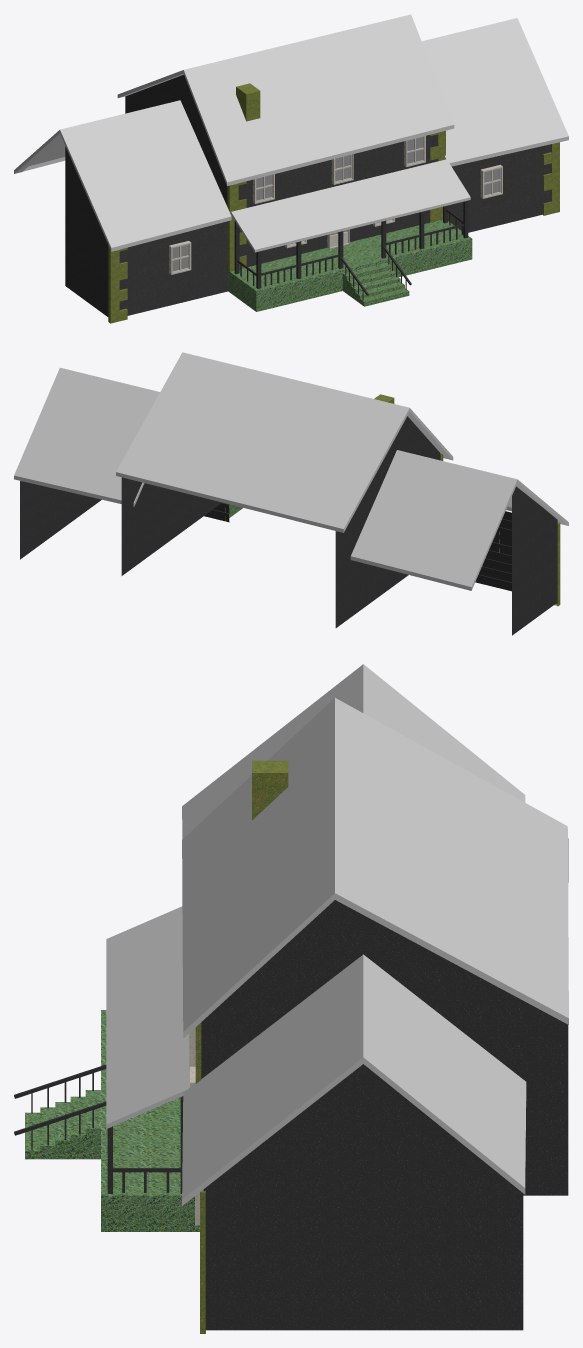
File: BGHousse.fbx
3 renders of one model, top to bottom at view 1: azimuth 30°, elevation 25°; view 2: azimuth 150°, elevation 25°; view 3: azimuth 270°, elevation 25°, orthographic. The views are drawn at different scales.
Parts seen in each view (by area): view 1: BGHousse; view 2: BGHousse; view 3: BGHousse.
Boxes of the visible parts, bbox=[...] form: BGHousse: bbox=[14, 14, 568, 323]; BGHousse: bbox=[14, 352, 568, 635]; BGHousse: bbox=[14, 664, 568, 1333].
Bounding box in the file's own units: 2713 × 1123 × 1618.
